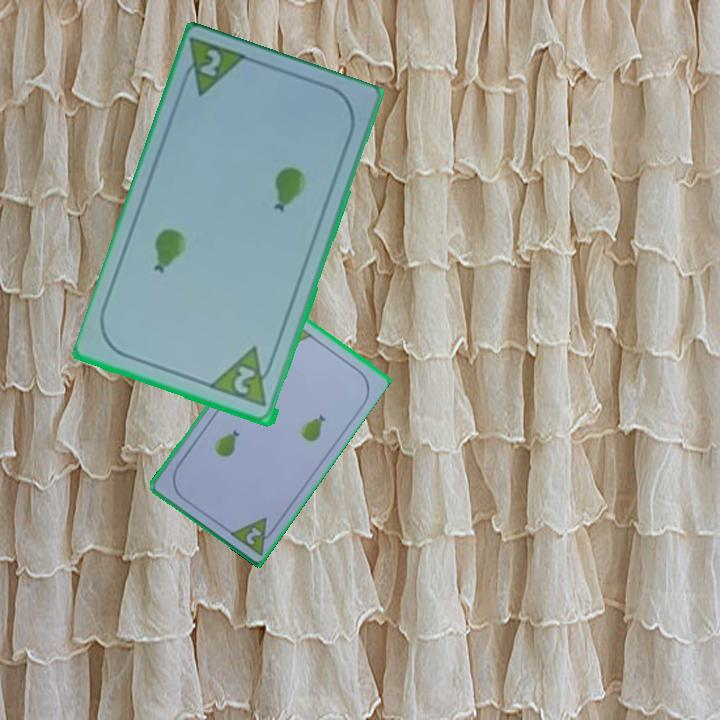2p: (176, 36, 253, 100), (209, 344, 279, 411), (225, 513, 281, 557)
